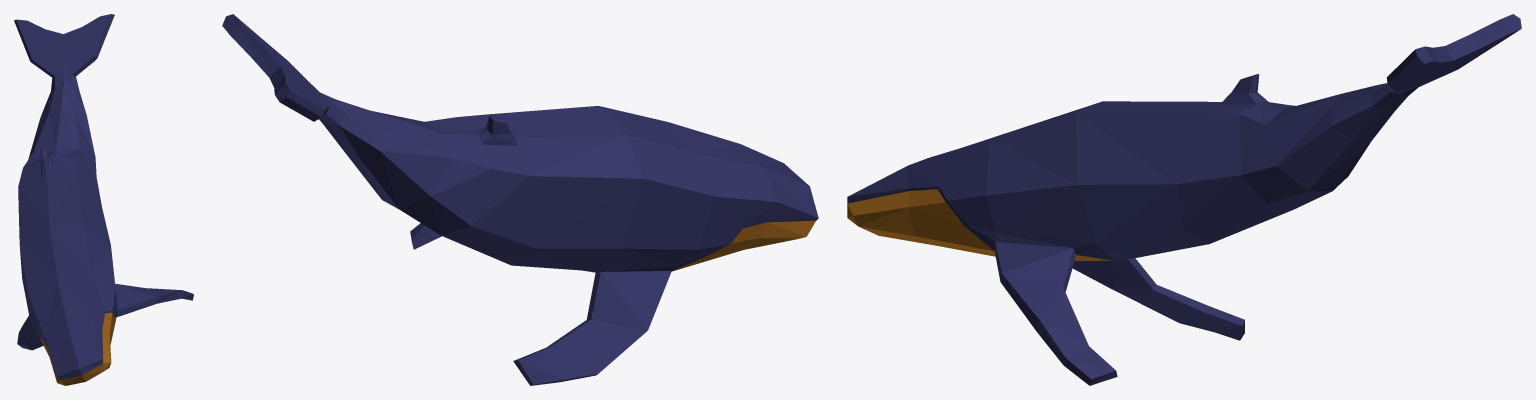
Rendered from Whale_pose_normalized.obj.
3 renders of one model, left to right at view 1: azimuth 30°, elevation 25°; view 2: azimuth 150°, elevation 25°; view 3: azimuth 270°, elevation 25°, orthographic. The views are drawn at different scales.
Visible parts, largest first — view 1: Whale; view 2: Whale; view 3: Whale.
Boxes of the visible parts, <box> form: Whale: <box>14,14,193,385</box>; Whale: <box>222,14,818,385</box>; Whale: <box>847,14,1521,385</box>.
Bounding box in the file's own units: 1.01 × 1.07 × 1.62.
